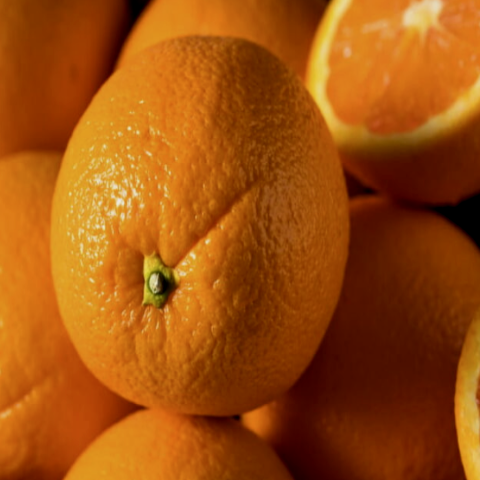orange: (14, 7, 363, 436)
